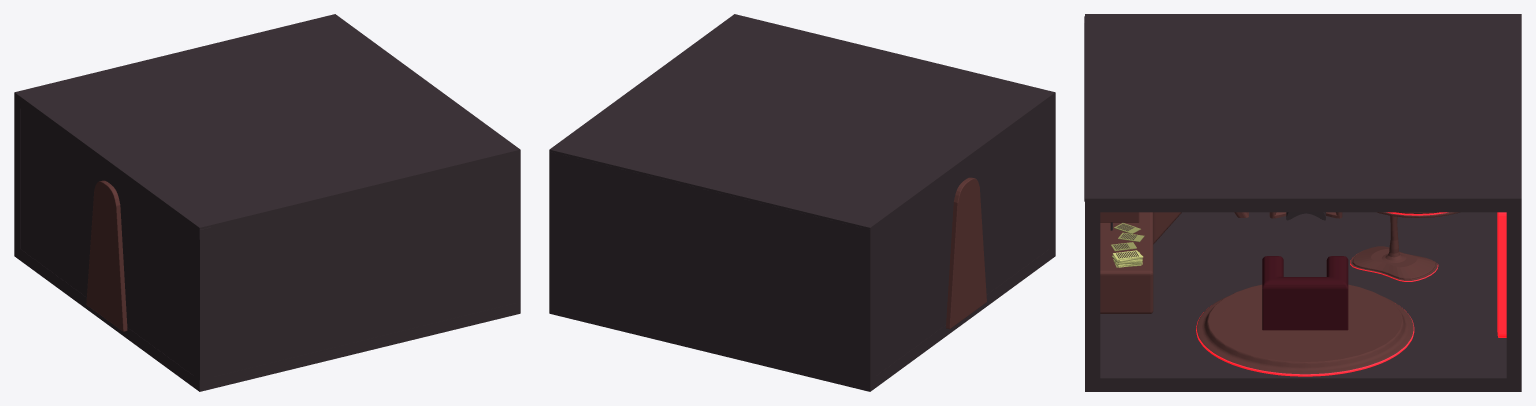
The model's file is Reality.fbx.
The picture shows the model from 3 angles, left to right: view 1: azimuth 30°, elevation 25°; view 2: azimuth 150°, elevation 25°; view 3: azimuth 270°, elevation 25°; orthographic projection. The views are drawn at different scales.
Parts seen in each view (by area): view 1: Cube.715, Cube.675, Cube.677, Cube.673, Cube.694, Cube.674; view 2: Cube.715, Cube.674, Cube.677, Cube.673, Cube.694, Cube.675; view 3: Cube.715, Cube.673, Cylinder.068, Cube.678, Cube.676, Cube.674, Cube.675, Cylinder.072, Cube.690, Cube.700, Cube.693, Cylinder.113.
Part boxes in pixels (x1=…): Cube.715: x1=14, y1=14, x2=520, y2=239; Cube.675: x1=193, y1=161, x2=520, y2=380; Cube.677: x1=21, y1=109, x2=211, y2=381; Cube.673: x1=14, y1=245, x2=520, y2=391; Cube.694: x1=86, y1=180, x2=127, y2=331; Cube.674: x1=14, y1=94, x2=20, y2=249; Cube.715: x1=549, y1=14, x2=1055, y2=234; Cube.674: x1=549, y1=151, x2=876, y2=381; Cube.677: x1=876, y1=104, x2=1055, y2=374; Cube.673: x1=549, y1=245, x2=1055, y2=391; Cube.694: x1=946, y1=177, x2=986, y2=329; Cube.675: x1=1049, y1=95, x2=1055, y2=248; Cube.715: x1=1085, y1=14, x2=1521, y2=212; Cube.673: x1=1085, y1=212, x2=1521, y2=391; Cylinder.068: x1=1196, y1=284, x2=1414, y2=376; Cube.678: x1=1262, y1=256, x2=1348, y2=330; Cube.676: x1=1100, y1=212, x2=1248, y2=313; Cube.674: x1=1506, y1=201, x2=1521, y2=379; Cube.675: x1=1085, y1=201, x2=1100, y2=379; Cylinder.072: x1=1350, y1=215, x2=1438, y2=281; Cube.690: x1=1497, y1=212, x2=1506, y2=337; Cube.700: x1=1111, y1=250, x2=1143, y2=267; Cube.693: x1=1100, y1=212, x2=1139, y2=222; Cylinder.113: x1=1269, y1=212, x2=1342, y2=220.
Bounding box in the file's own units: 612 × 295 × 606.
